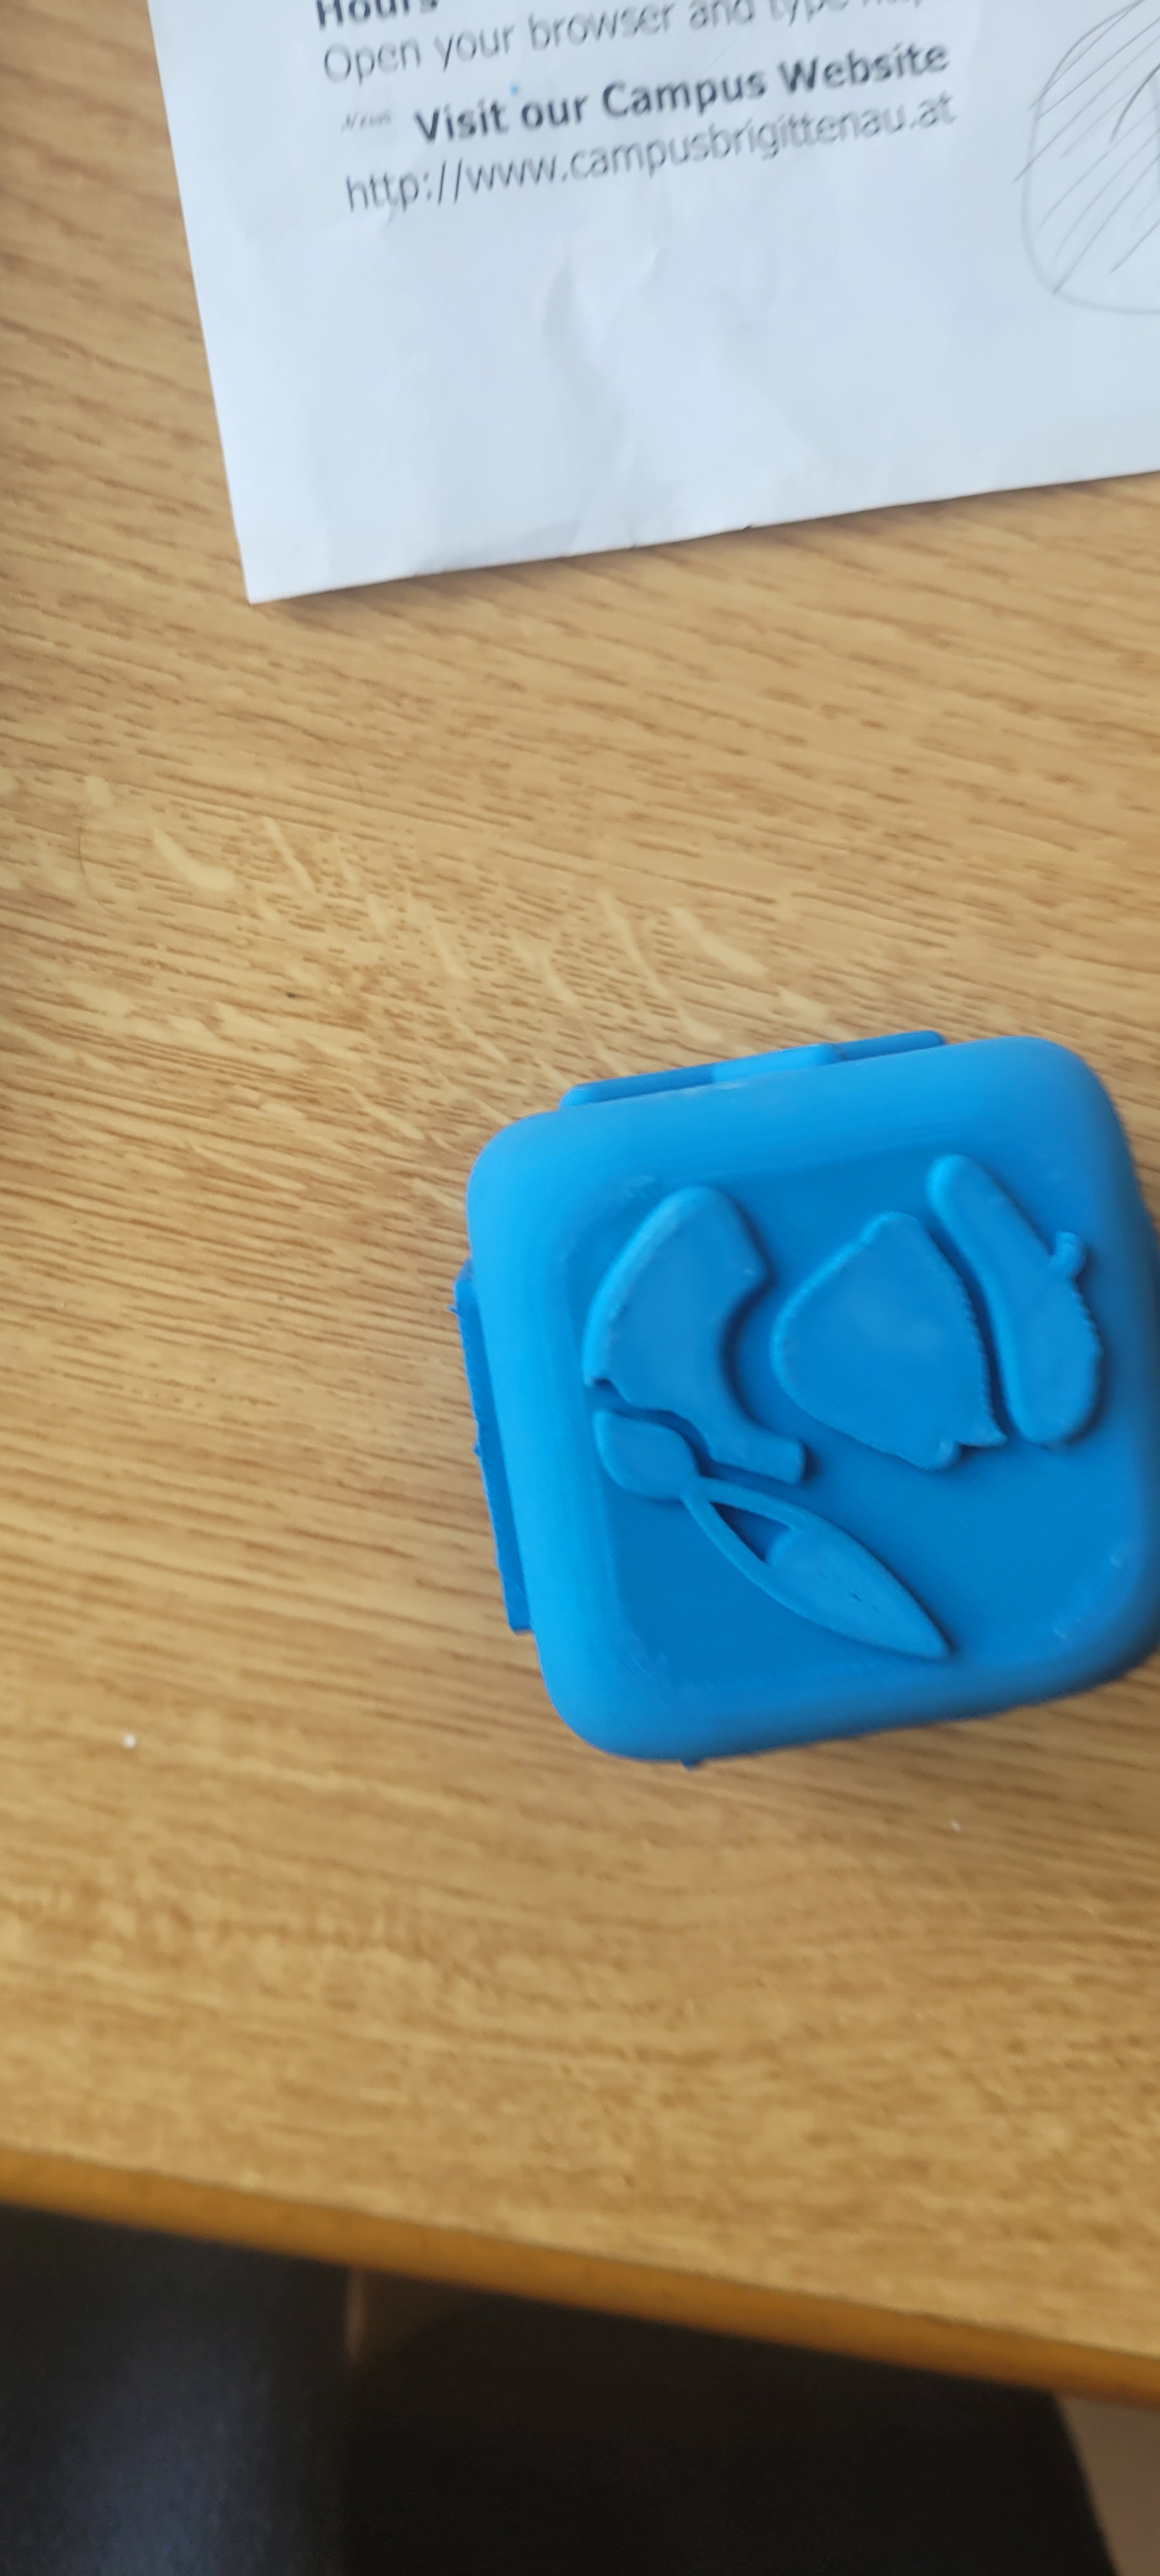Artist_Info: (516, 1031, 1160, 1738)
